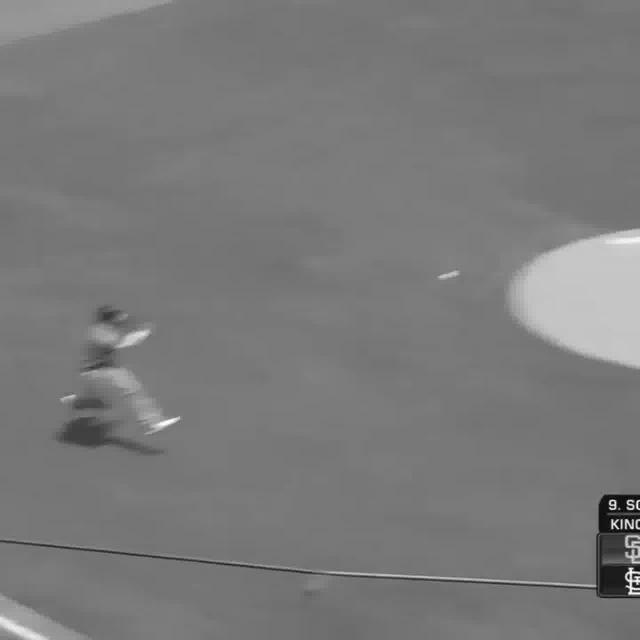baseball: (440, 270, 462, 280)
shoe: (144, 416, 181, 436)
